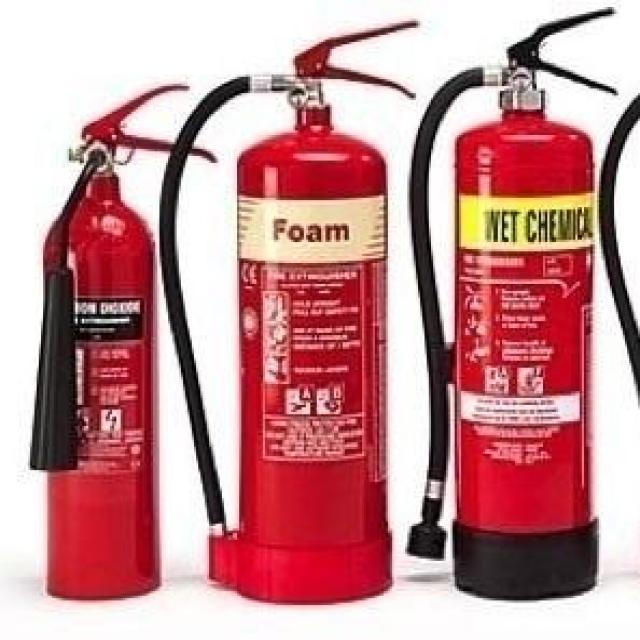fire_extinguisher: (151, 12, 427, 608), (400, 3, 620, 604), (25, 79, 219, 605)
